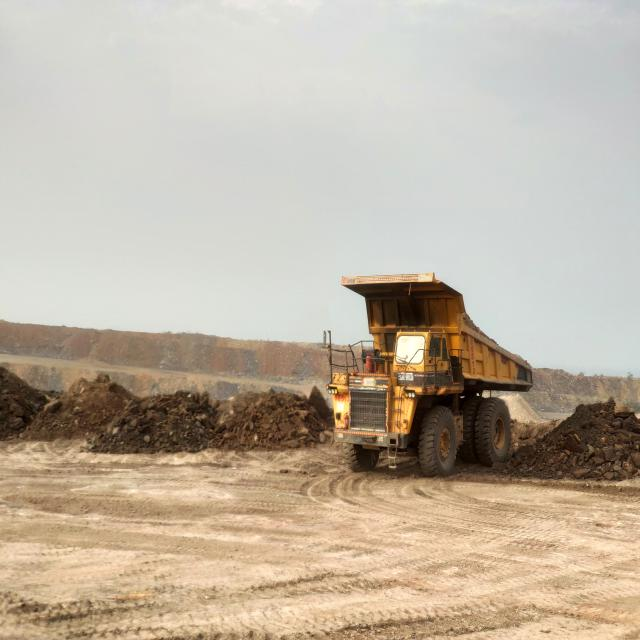dump_truck: (324, 273, 532, 477)
